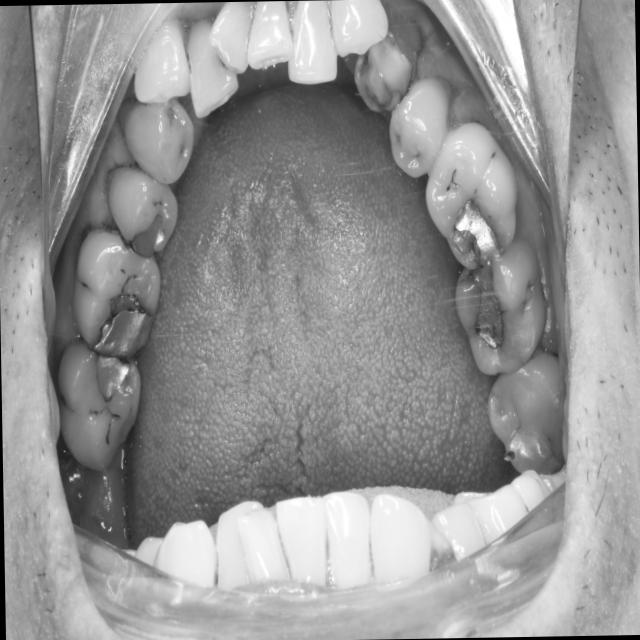tooth: (422, 114, 527, 280), (442, 237, 555, 380), (61, 218, 168, 364), (54, 335, 150, 480), (481, 343, 570, 478), (384, 61, 462, 192), (115, 93, 202, 195), (178, 2, 250, 121), (102, 164, 187, 262), (348, 22, 425, 121), (129, 8, 194, 116), (279, 0, 344, 97), (243, 0, 305, 91), (204, 1, 262, 85), (326, 0, 394, 66)
